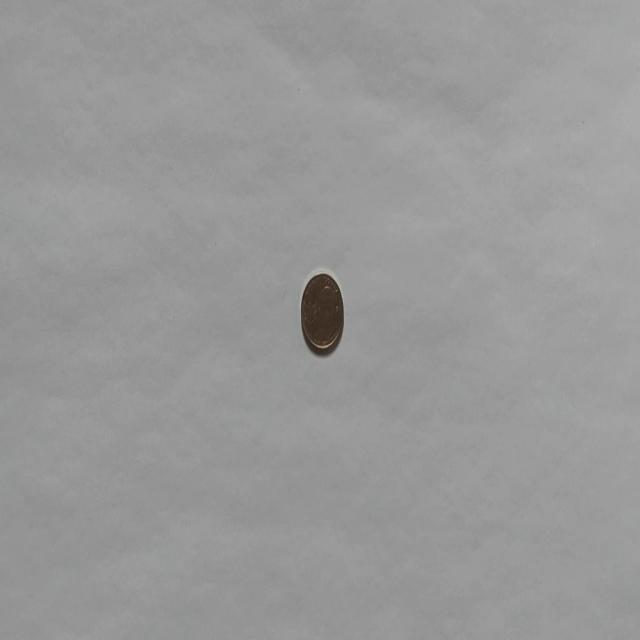seribu rupiah koin: (300, 268, 344, 354)
